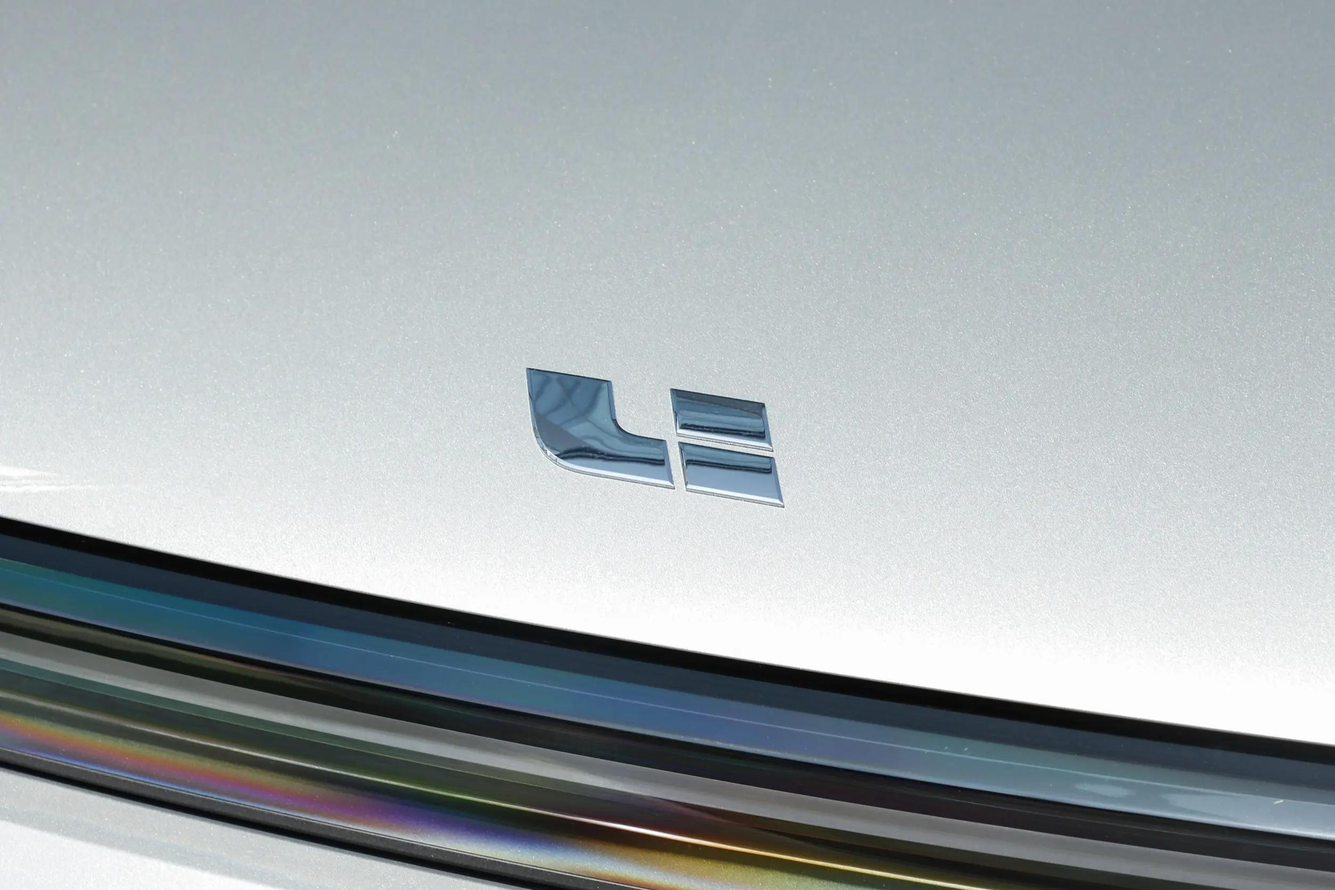Li Auto: (525, 367, 785, 510)
